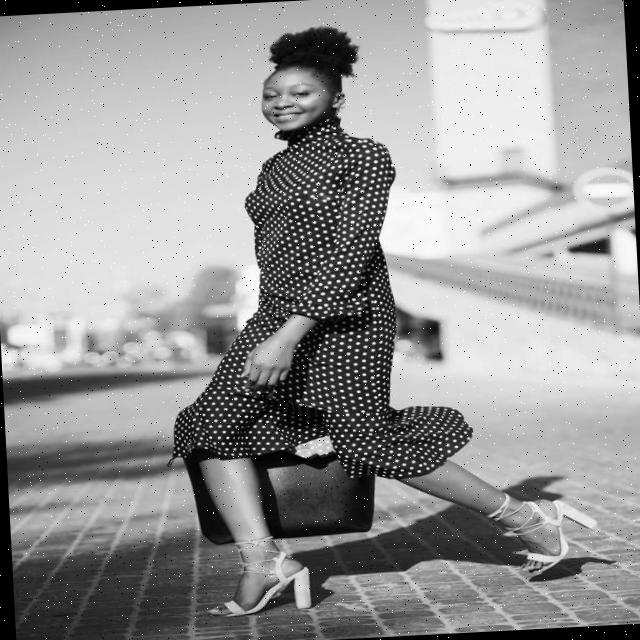Happiness: (255, 65, 330, 137)
